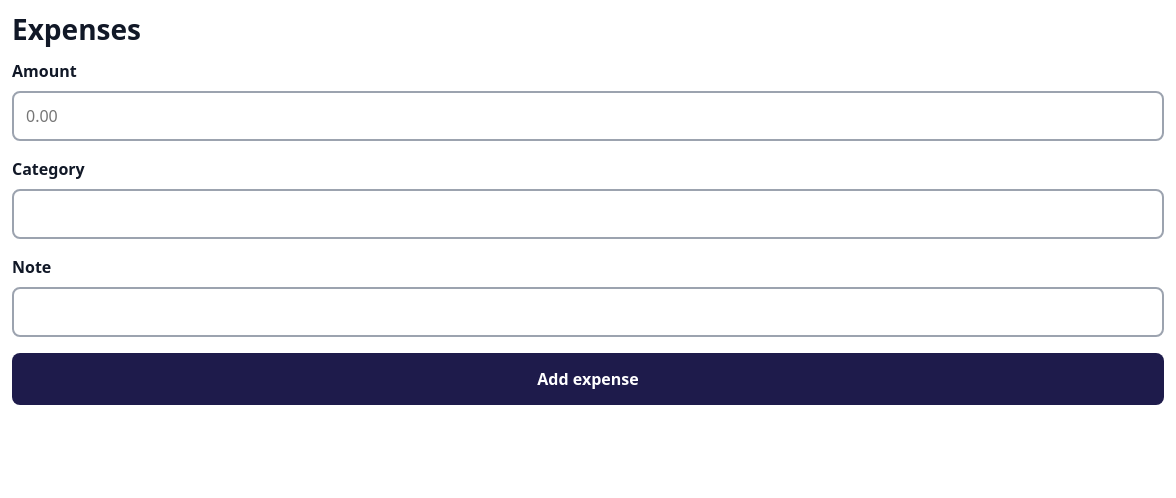
Test: ExpensesScreen + ExpenseForm › shows a validation error when amount is empty
// Fill category but leave amount blank.
Type "transport" into the field labelled "Category" at [588, 214], box [12,189,1164,239]
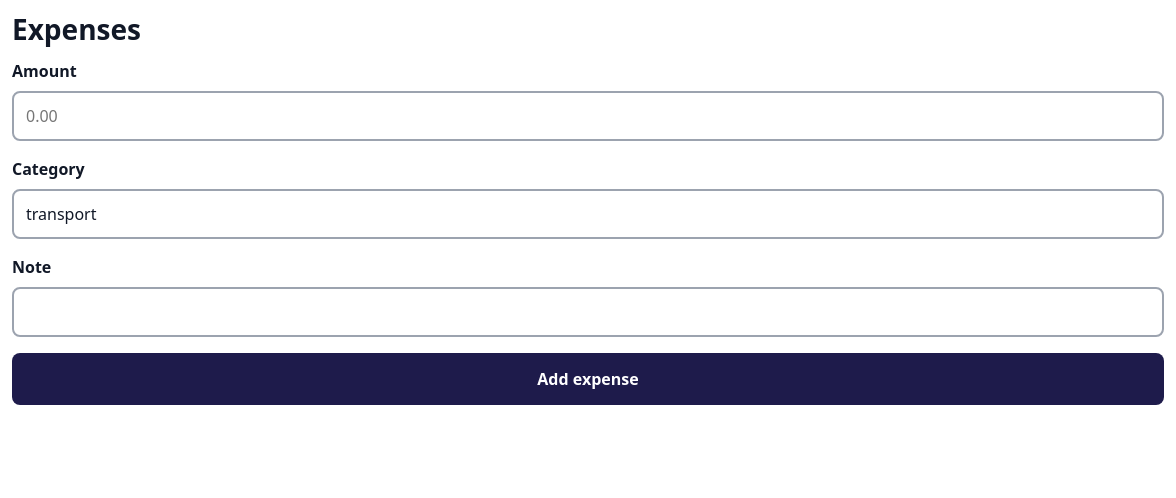
Click the button "Add expense" at [588, 379], box [12,353,1164,405]
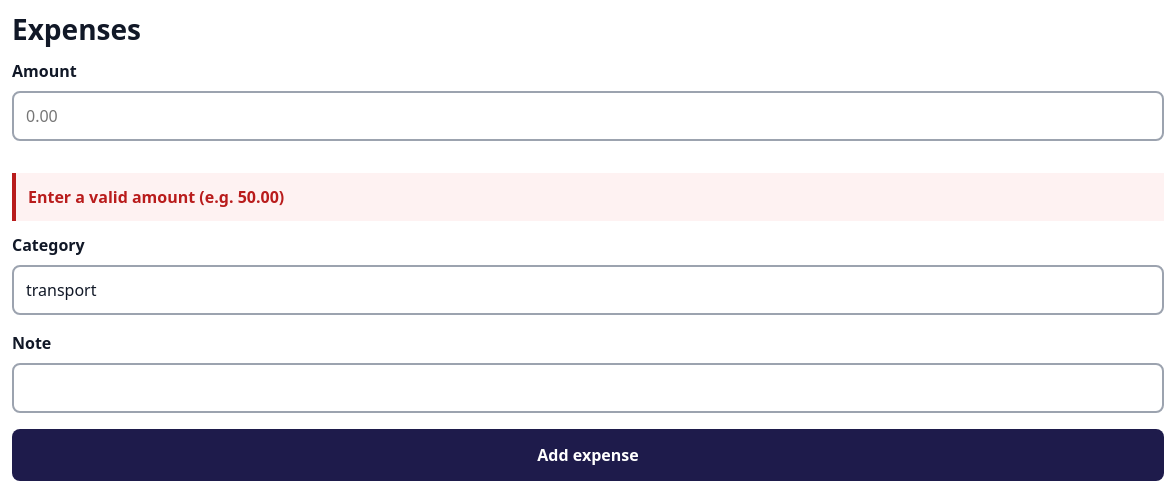
Result: the text "Enter a valid amount (e.g. 50.00)" is shown at [12,173,1164,221]
